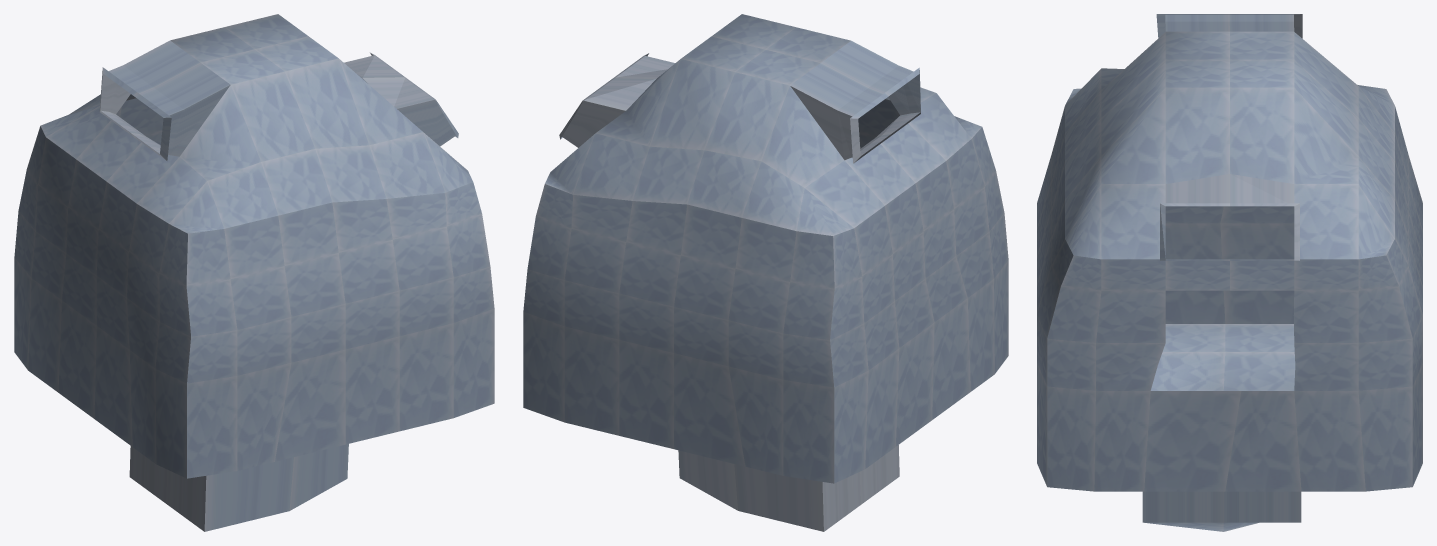
File: bunker_dungeon_main.DAE
The picture shows the model from 3 angles, left to right: view 1: azimuth 30°, elevation 25°; view 2: azimuth 150°, elevation 25°; view 3: azimuth 270°, elevation 25°; orthographic projection. The views are drawn at different scales.
Parts seen in each view (by area): view 1: Box02; view 2: Box02; view 3: Box02.
Boxes of the visible parts, x1,y1,x2,y2 form: Box02: (14, 14, 494, 531); Box02: (523, 14, 1008, 531); Box02: (1037, 14, 1422, 531).
Size of the model in its own units: 268 by 345 by 252.
